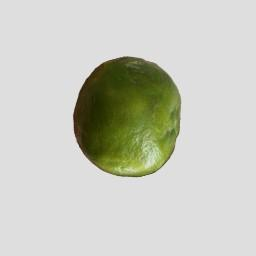Unripe: (73, 56, 181, 176)
